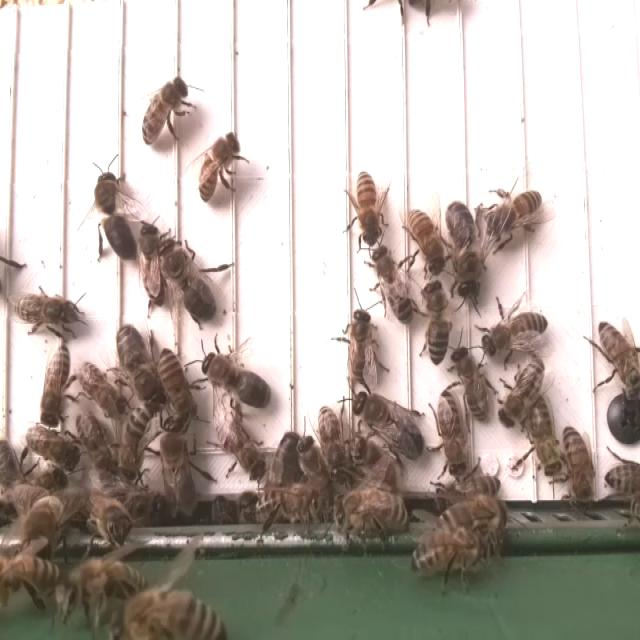Drone: (158, 234, 220, 325), (350, 388, 425, 463), (115, 320, 166, 414), (94, 166, 141, 264), (160, 417, 201, 527), (200, 351, 274, 410), (445, 196, 483, 302)
Worker: (373, 240, 416, 329), (138, 77, 190, 148), (213, 417, 268, 480), (75, 358, 130, 421), (480, 310, 550, 359), (598, 319, 640, 397), (450, 346, 492, 422), (434, 386, 469, 477), (197, 132, 239, 206), (499, 357, 542, 428), (38, 342, 72, 427), (408, 203, 447, 274), (137, 218, 167, 310), (422, 278, 453, 366), (485, 191, 543, 238), (26, 423, 82, 469), (529, 397, 560, 479), (563, 424, 596, 500), (16, 293, 82, 330), (319, 402, 350, 479), (346, 307, 374, 386), (355, 169, 383, 246)
